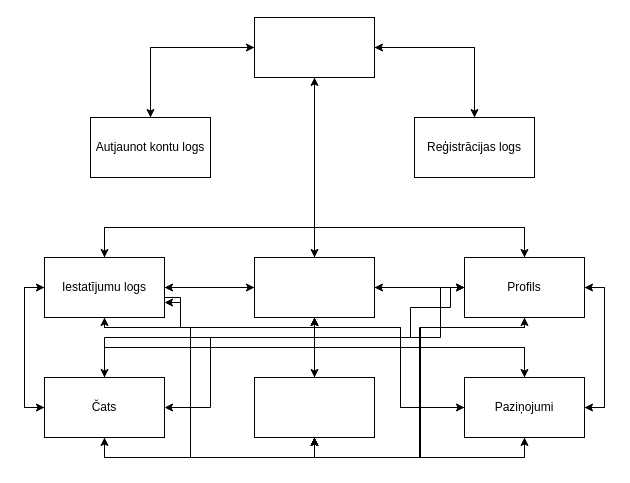
This 630x483 diagram has some shape labels left out. The shapes that lost their labels are listed below. From the top down, each one's box as (x1, y1, x2, y2) in pixels, then its label:
(254, 16, 374, 78): Autorizācijas logs
(254, 256, 374, 318): Sākumlapas logs
(254, 376, 374, 438): Spēles
